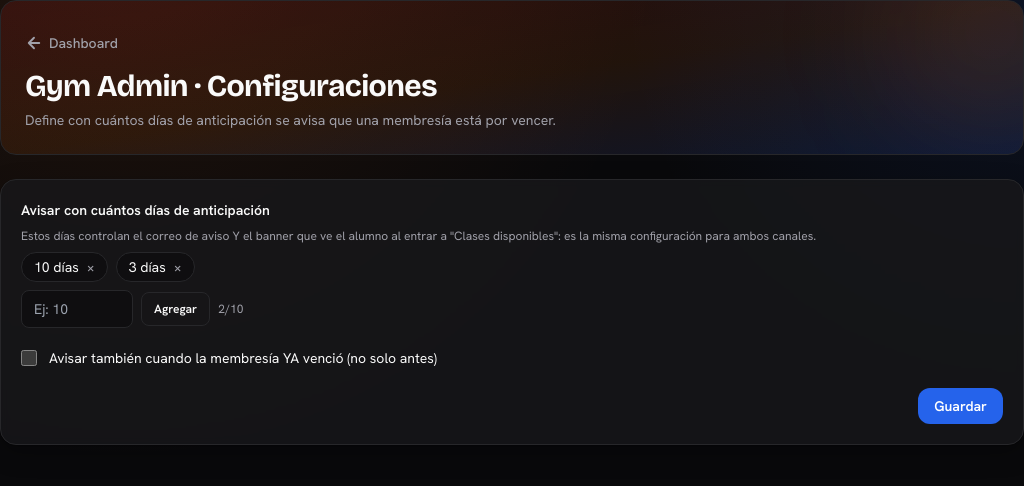
GymAdminExpiryNotificationConfigPage — agregar días (validación en la UI) › rechaza un valor duplicado
Expected: the text "10 días" is shown, [21, 252, 108, 282]
In the number field named "Días de anticipación a agregar": (77, 309) [21, 290, 133, 328], type "10"
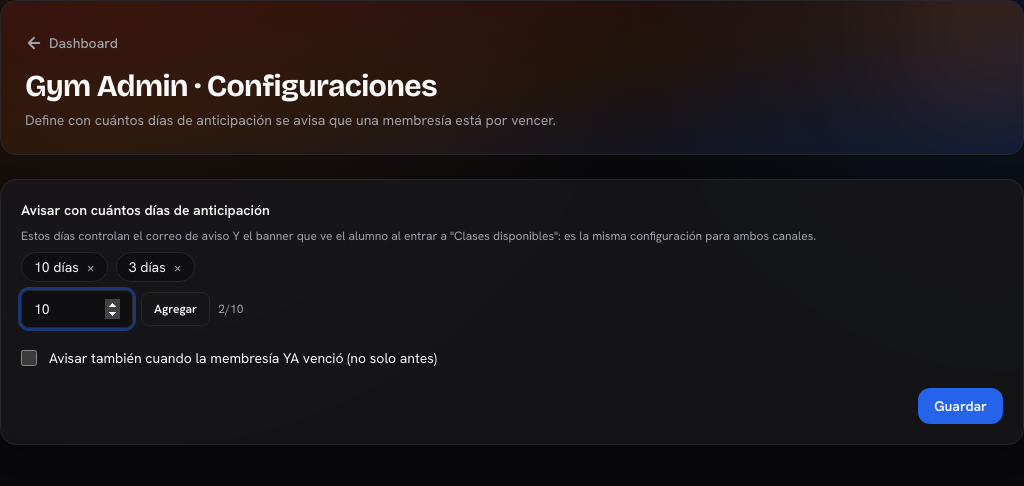
Click the button "Agregar": (176, 309) [141, 292, 210, 326]
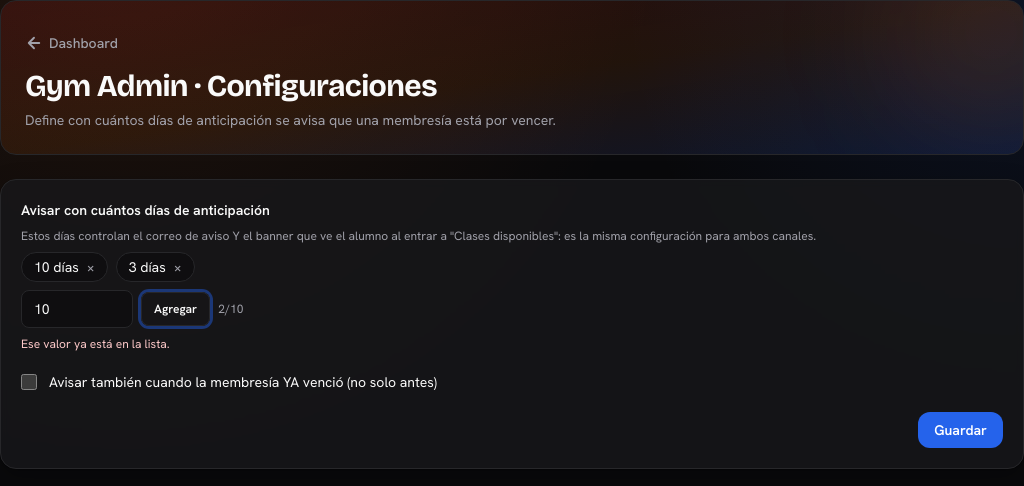
Now the text "Ese valor ya está en la lista." is shown, box [21, 336, 170, 352]
